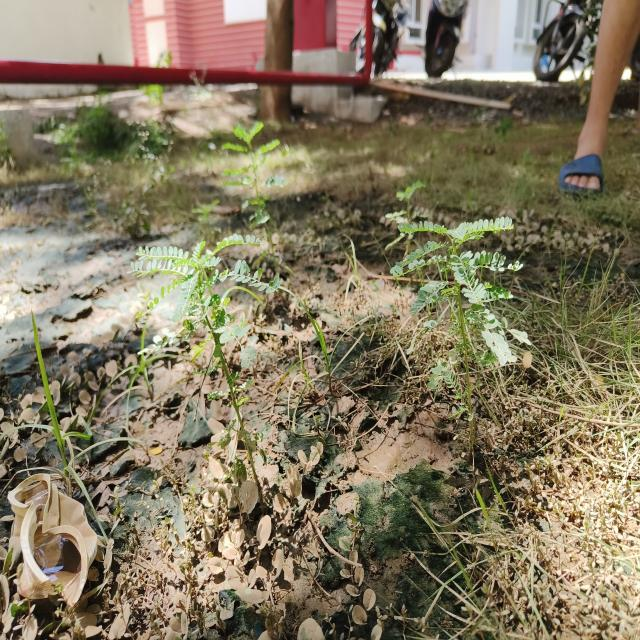weed: (389, 211, 521, 376), (182, 234, 276, 414)
